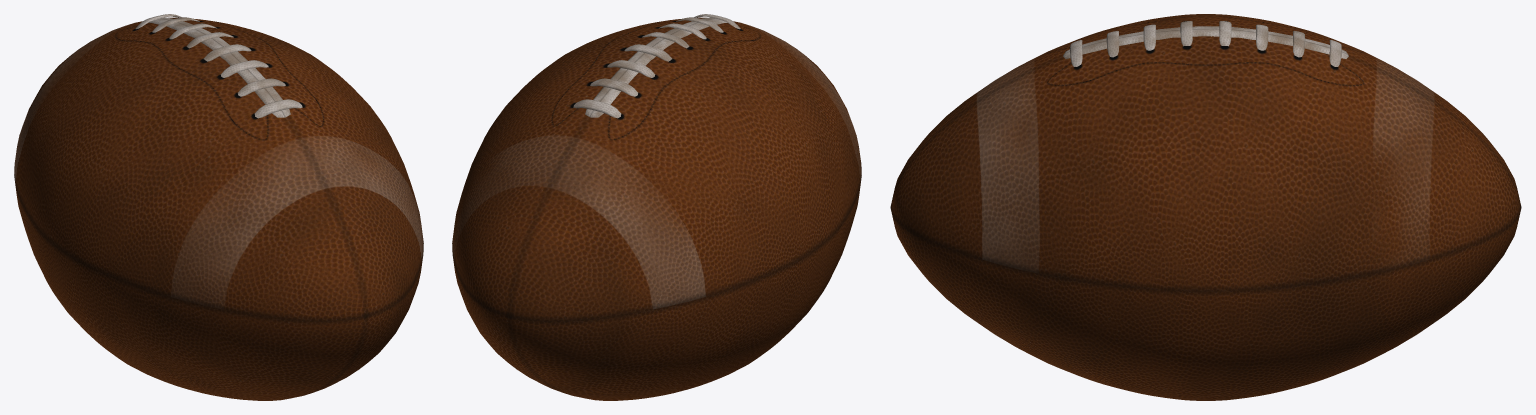
Rendered from football_medium_poly.obj.
The picture shows the model from 3 angles, left to right: view 1: azimuth 30°, elevation 25°; view 2: azimuth 150°, elevation 25°; view 3: azimuth 270°, elevation 25°; orthographic projection. The views are drawn at different scales.
Parts seen in each view (by area): view 1: football_medium_poly; view 2: football_medium_poly; view 3: football_medium_poly.
Boxes of the visible parts, box(x1,y1,x2,y2) form: football_medium_poly: box(14, 14, 423, 400); football_medium_poly: box(452, 14, 861, 400); football_medium_poly: box(890, 14, 1521, 400).
Size of the model in its own units: 0.0597 by 0.0593 by 0.0948.
